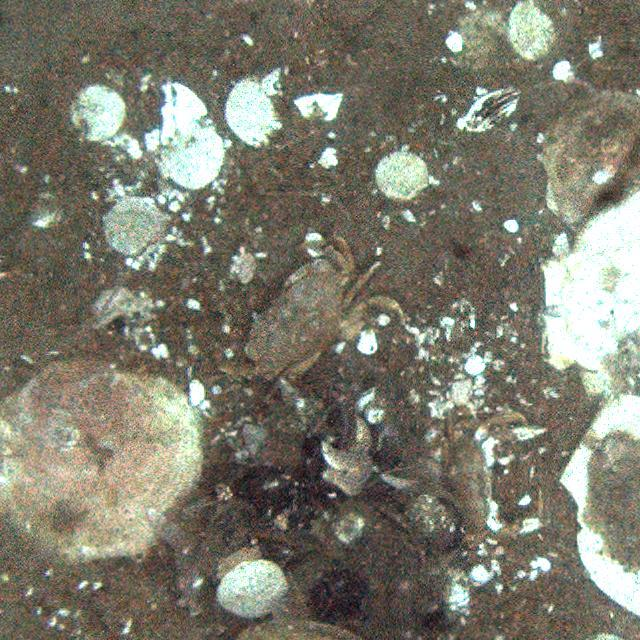crab: (238, 236, 402, 392)
